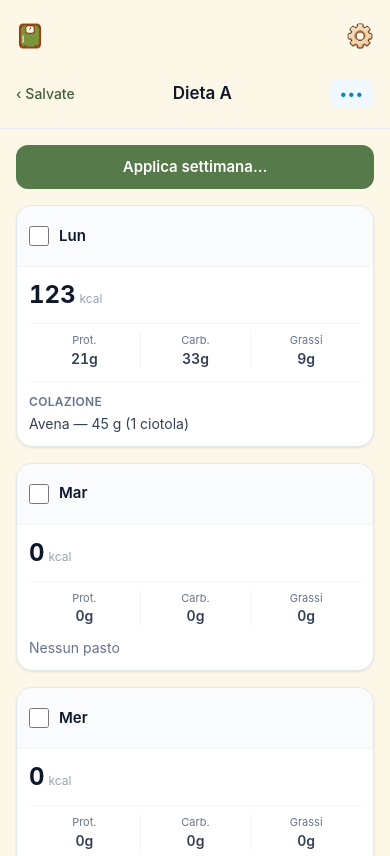
SavedWeekDetailPage › shows a singular action when one day is selected
Click the checkbox named "Seleziona Mar" at (39, 494), box [29,484,49,504]
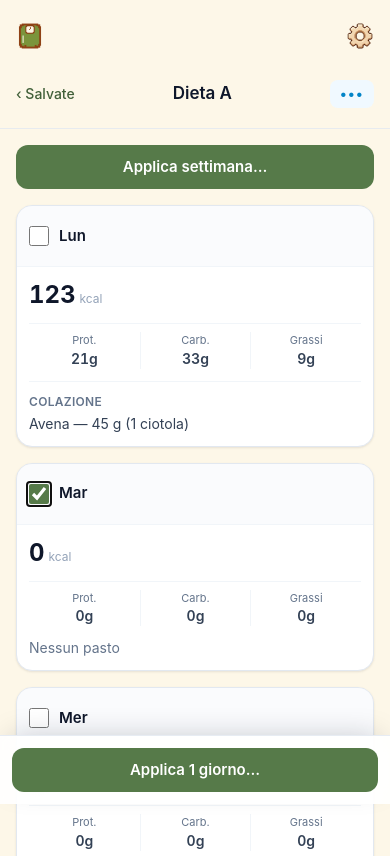
Expected: the button "Applica 1 giorno…" is shown, [12,748,378,792]
